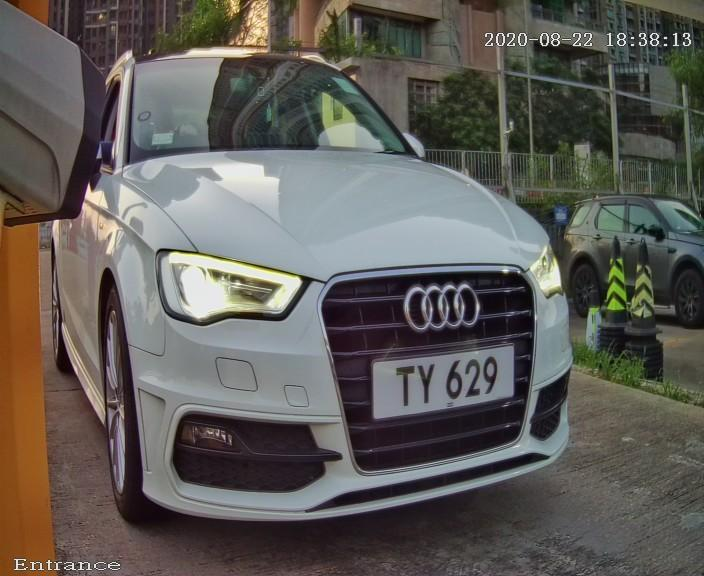Car: (26, 3, 635, 564)
License Plate: (362, 337, 522, 425)
